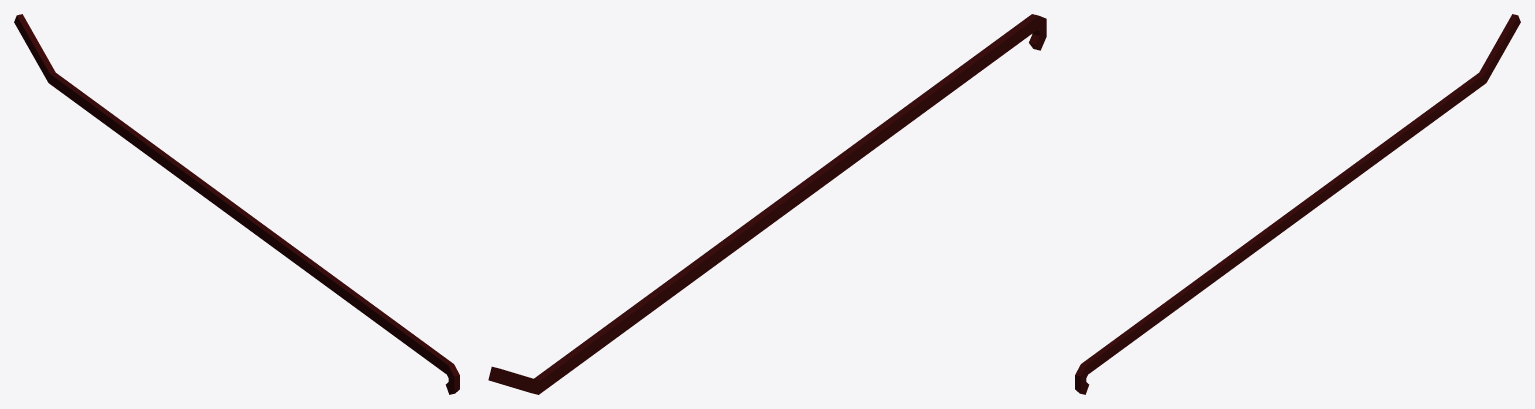
File: original-42.obj
3 views of the same model, side by side, from view 1: azimuth 30°, elevation 25°; view 2: azimuth 150°, elevation 25°; view 3: azimuth 330°, elevation 25° (orthographic). The views are drawn at different scales.
Parts seen in each view (by area): view 1: mesh39/mesh39-geometry#mesh39-geometry; view 2: mesh39/mesh39-geometry#mesh39-geometry; view 3: mesh39/mesh39-geometry#mesh39-geometry.
Boxes of the visible parts, x1=… form: mesh39/mesh39-geometry#mesh39-geometry: x1=14, y1=14, x2=459, y2=394; mesh39/mesh39-geometry#mesh39-geometry: x1=488, y1=14, x2=1046, y2=394; mesh39/mesh39-geometry#mesh39-geometry: x1=1075, y1=14, x2=1520, y2=394.
Size of the model in its own units: 0.00409 by 0.0426 by 0.5403.
